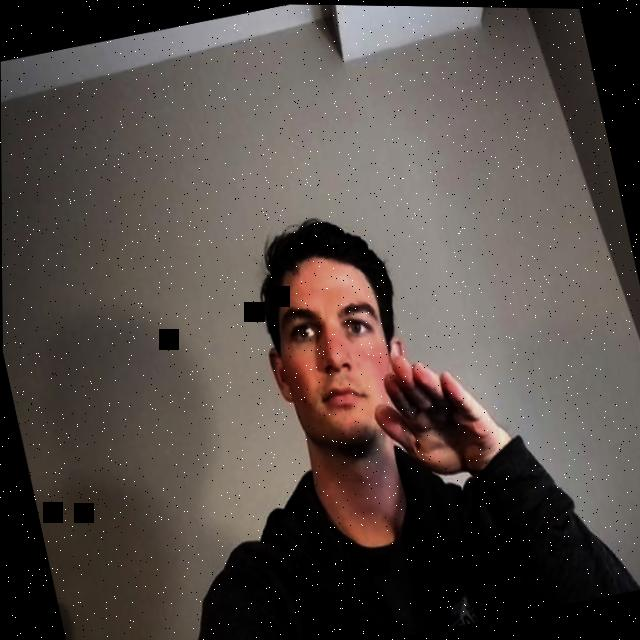Paper: (357, 330, 517, 496)
